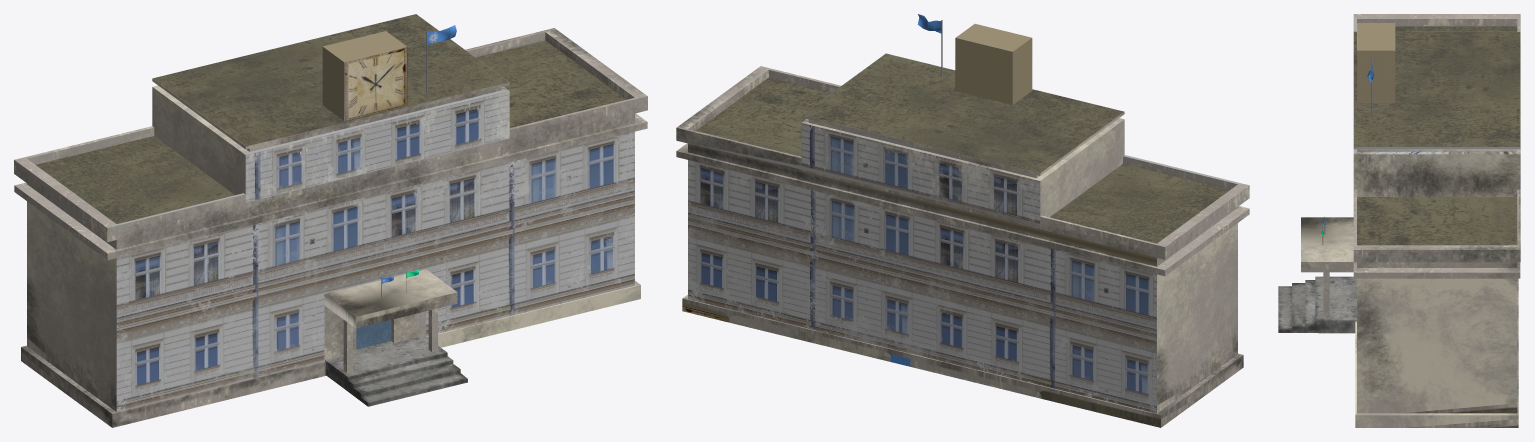
File: hole_def.fbx
3 renders of one model, left to right at view 1: azimuth 30°, elevation 25°; view 2: azimuth 150°, elevation 25°; view 3: azimuth 270°, elevation 25°, orthographic. The views are drawn at different scales.
Visible parts, largest first — view 1: hole; view 2: hole; view 3: hole.
Boxes of the visible parts, x1,y1,x2,y2 form: hole: (14,14,647,427); hole: (676,14,1249,427); hole: (1278,14,1520,427).
Size of the model in its own units: 3978 by 2193 by 1726.
Materials: 1 (1 with a texture image).
